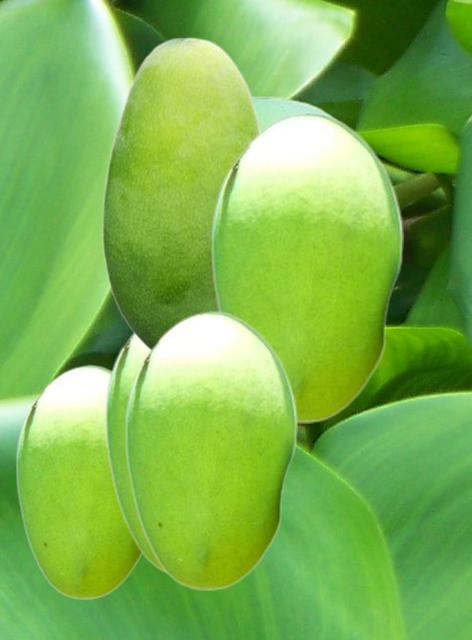green_mango: (210, 111, 402, 422), (101, 36, 261, 350), (124, 310, 296, 589), (15, 364, 141, 598), (104, 332, 166, 575), (253, 95, 341, 129)
